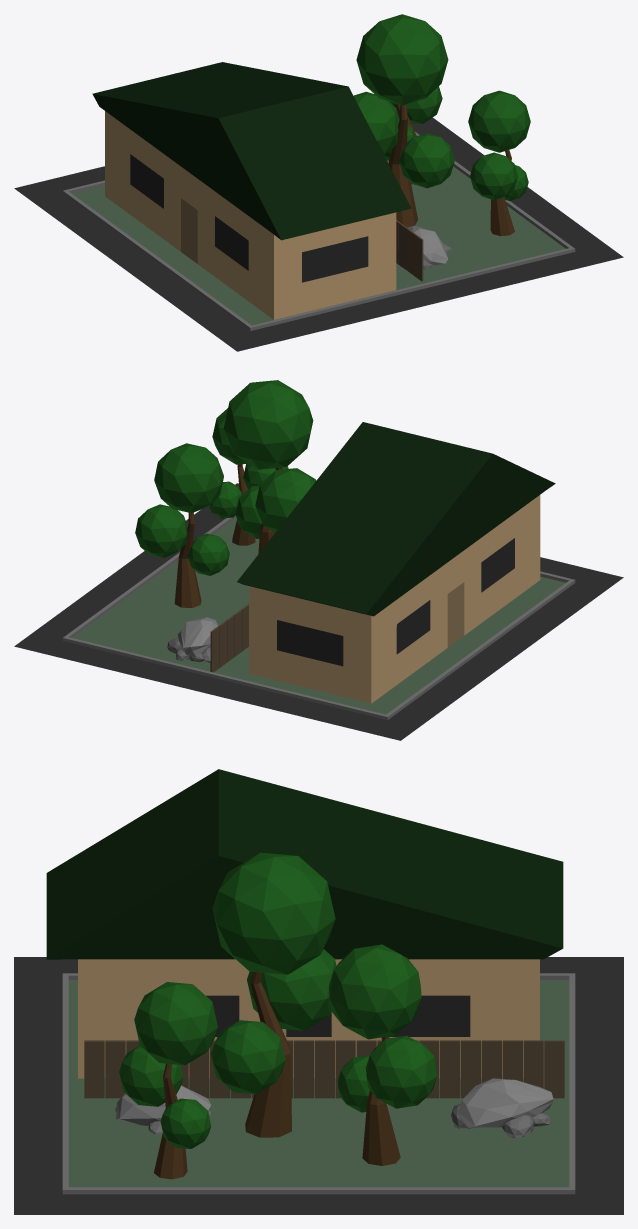
The model's file is city_2.fbx.
3 views of the same model, one above another, from view 1: azimuth 30°, elevation 25°; view 2: azimuth 150°, elevation 25°; view 3: azimuth 270°, elevation 25° (orthographic). The views are drawn at different scales.
Parts seen in each view (by area): view 1: city_tile.002; view 2: city_tile.002; view 3: city_tile.002.
Part boxes in pixels (x1=…): city_tile.002: x1=14, y1=14, x2=623, y2=351; city_tile.002: x1=14, y1=380, x2=623, y2=740; city_tile.002: x1=14, y1=769, x2=623, y2=1214.
Size of the model in its own units: 1000 by 524 by 1000.
